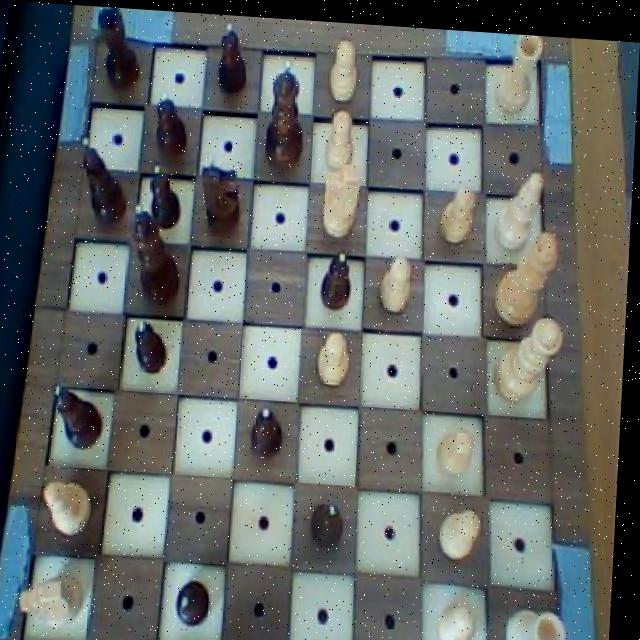bishop: (75, 132, 133, 227), (53, 377, 111, 452)
black-bishop: (129, 200, 187, 310)
black-king: (195, 144, 247, 241)
black-knight: (209, 13, 254, 99), (145, 154, 189, 229), (152, 85, 194, 160), (250, 396, 294, 462), (133, 314, 177, 378), (177, 570, 223, 631), (320, 239, 360, 308), (309, 493, 356, 551)
black-pawn: (260, 51, 309, 176)
black-queen: (92, 5, 148, 95)
black-rook: (492, 154, 547, 248), (45, 472, 106, 544)
white-bishop: (493, 217, 568, 325)
white-king: (19, 564, 96, 633), (319, 153, 368, 239)
white-knight: (438, 495, 492, 561), (319, 100, 363, 171), (436, 176, 483, 242), (315, 321, 360, 388), (437, 413, 484, 476), (377, 247, 420, 313), (327, 31, 365, 102), (439, 590, 492, 640)
white-pawn: (494, 303, 572, 406)
white-queen: (492, 26, 550, 112), (509, 596, 578, 640)
